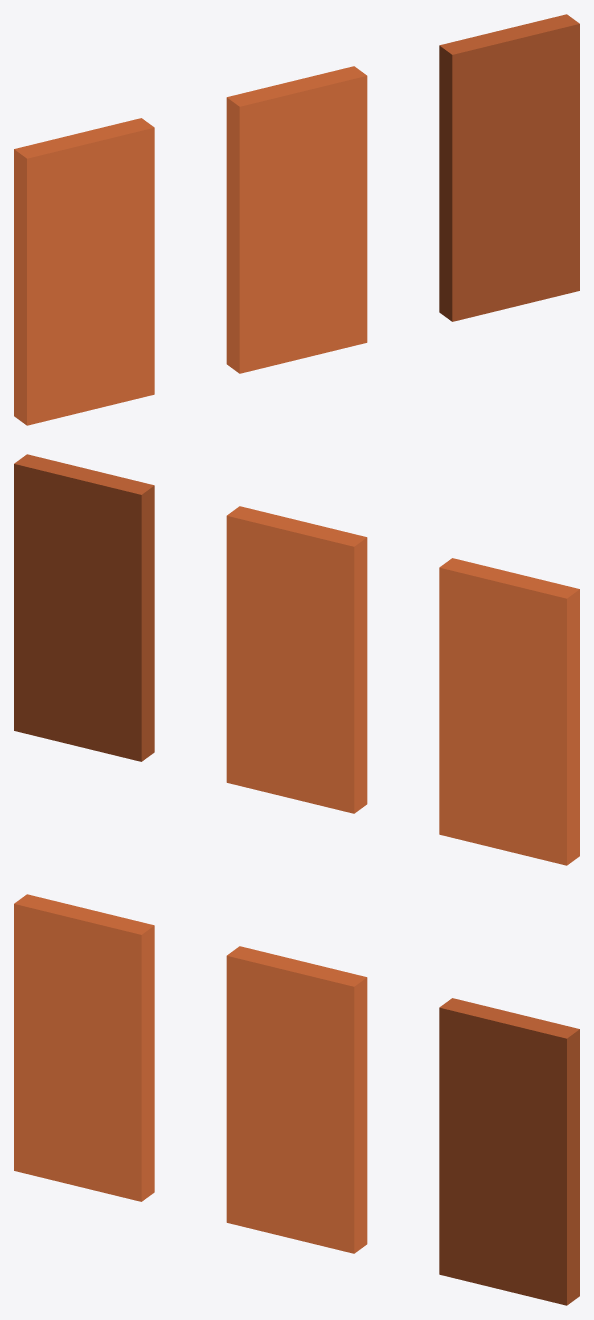
Rendered from color-reference.glb.
3 views of the same model, one above another, from view 1: azimuth 30°, elevation 25°; view 2: azimuth 150°, elevation 25°; view 3: azimuth 330°, elevation 25° (orthographic).
Parts seen in each view (by area): view 1: unlit-texture, unlit-factor, lit-texture; view 2: unlit-texture, unlit-factor, lit-texture; view 3: unlit-texture, unlit-factor, lit-texture.
Boxes of the visible parts, box(x1,y1,x2,y2) form: unlit-texture: box(226, 66, 367, 373); unlit-factor: box(14, 118, 154, 425); lit-texture: box(439, 14, 579, 321); unlit-texture: box(226, 506, 367, 813); unlit-factor: box(439, 558, 579, 865); lit-texture: box(14, 454, 154, 761); unlit-texture: box(226, 946, 367, 1253); unlit-factor: box(14, 894, 154, 1201); lit-texture: box(439, 998, 579, 1305).
Bounding box in the file's own units: 1.95 × 0.9 × 0.08.
3 materials, 2 textured.
